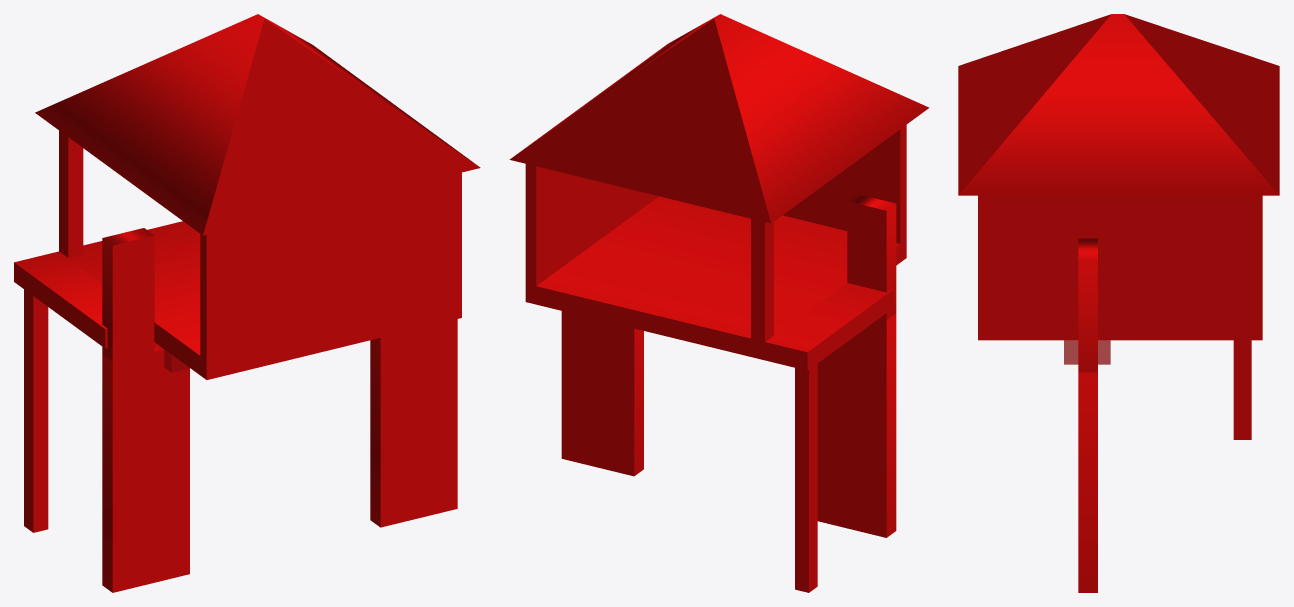
File: SM_Bld_Fort_Entrance_01_Collision.fbx
The picture shows the model from 3 angles, left to right: view 1: azimuth 30°, elevation 25°; view 2: azimuth 150°, elevation 25°; view 3: azimuth 270°, elevation 25°; orthographic projection. The views are drawn at different scales.
Visible parts, largest first — view 1: SM_Bld_Fort_Entrance_01_Collision; view 2: SM_Bld_Fort_Entrance_01_Collision; view 3: SM_Bld_Fort_Entrance_01_Collision.
Part boxes in pixels (x1,y1,x2,y2): SM_Bld_Fort_Entrance_01_Collision: (14,14,480,592); SM_Bld_Fort_Entrance_01_Collision: (509,14,929,592); SM_Bld_Fort_Entrance_01_Collision: (958,14,1279,592).
Size of the model in its own units: 498 by 713 by 417.
